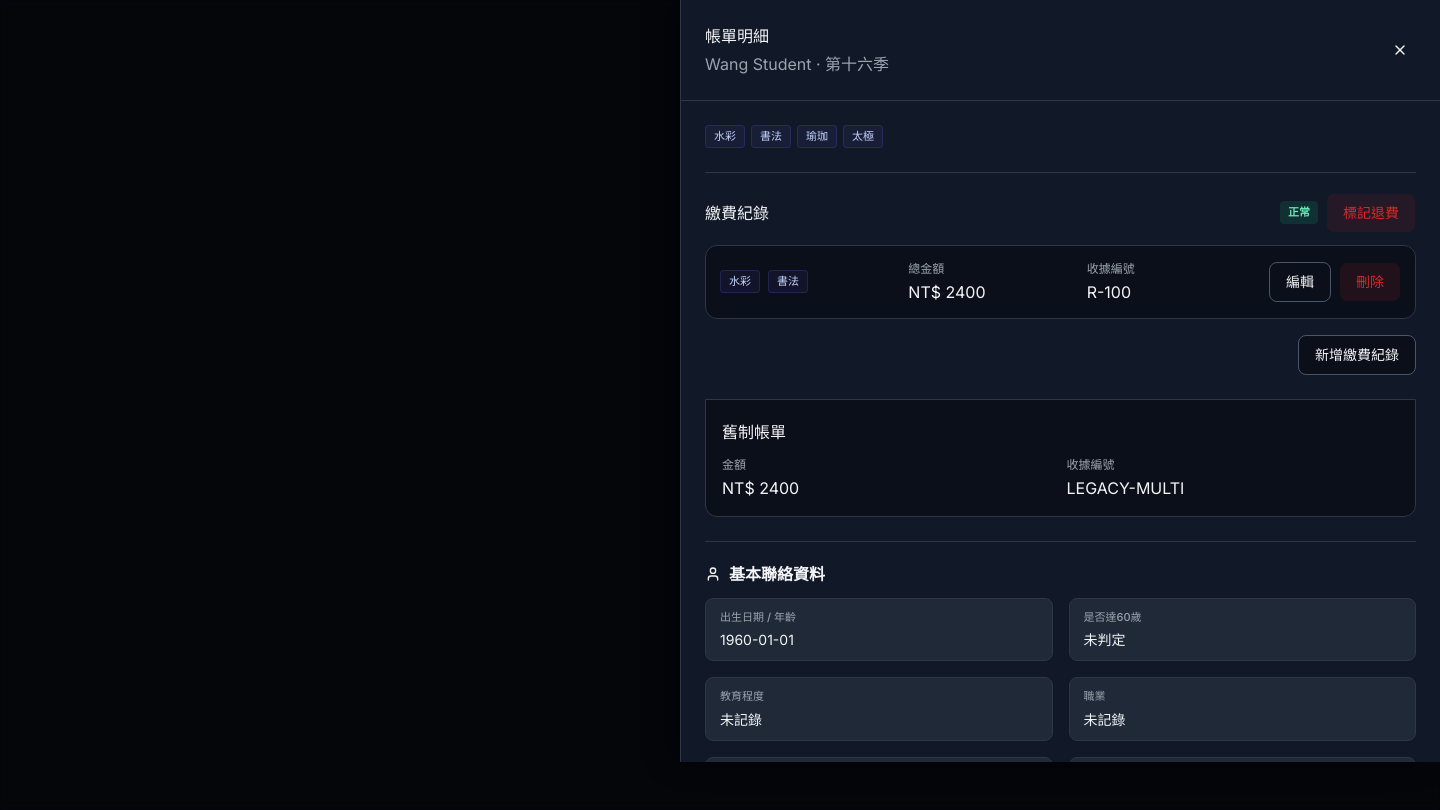
EnrollmentBillingDetailModal › creates one payment for multiple unbilled courses
Click the button "新增繳費紀錄" at point(1357, 354), box [1298,334,1416,374]
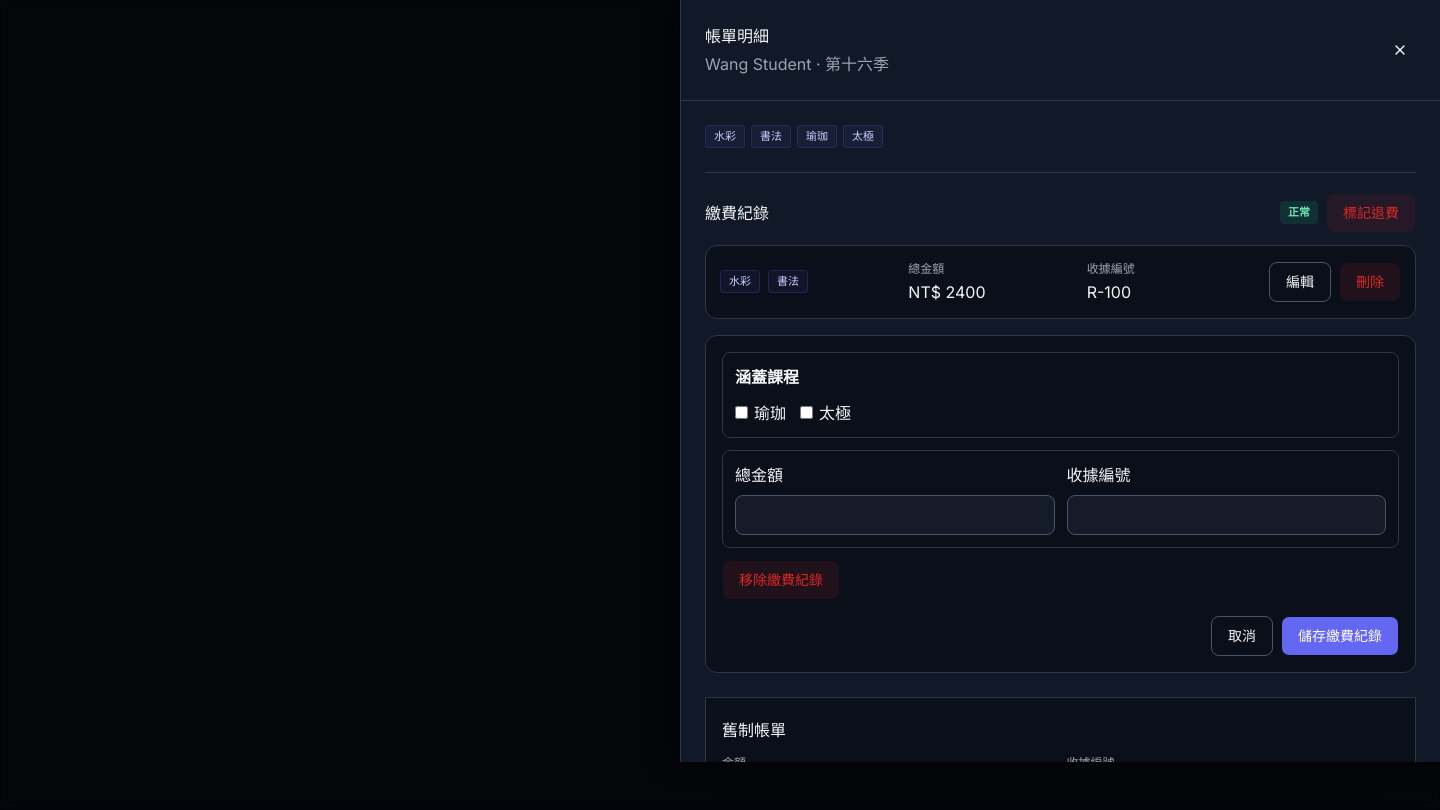
Click the checkbox labelled "瑜珈" at point(742, 412), box [735,406,748,419]
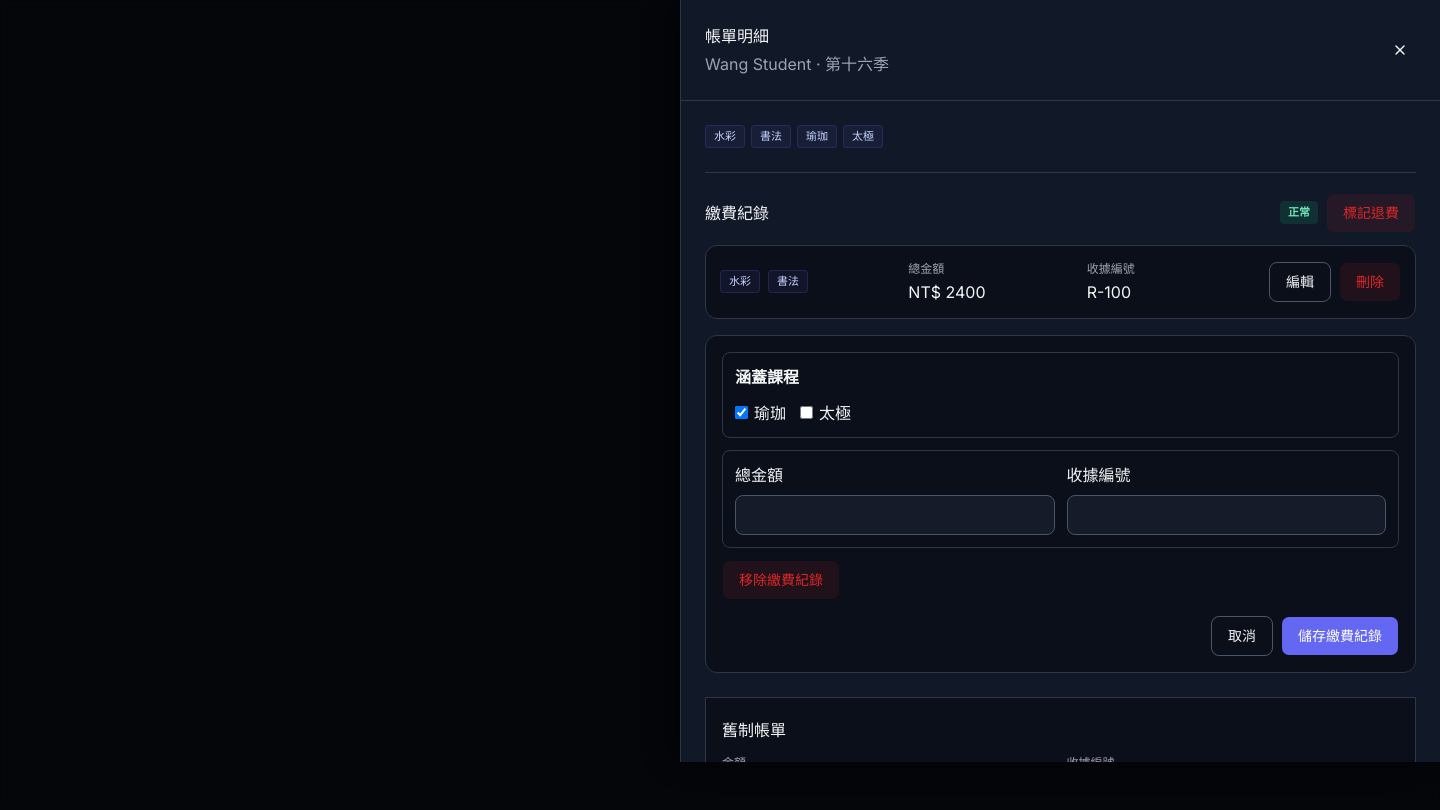
Click the checkbox labelled "太極" at point(806, 412), box [800,406,813,419]
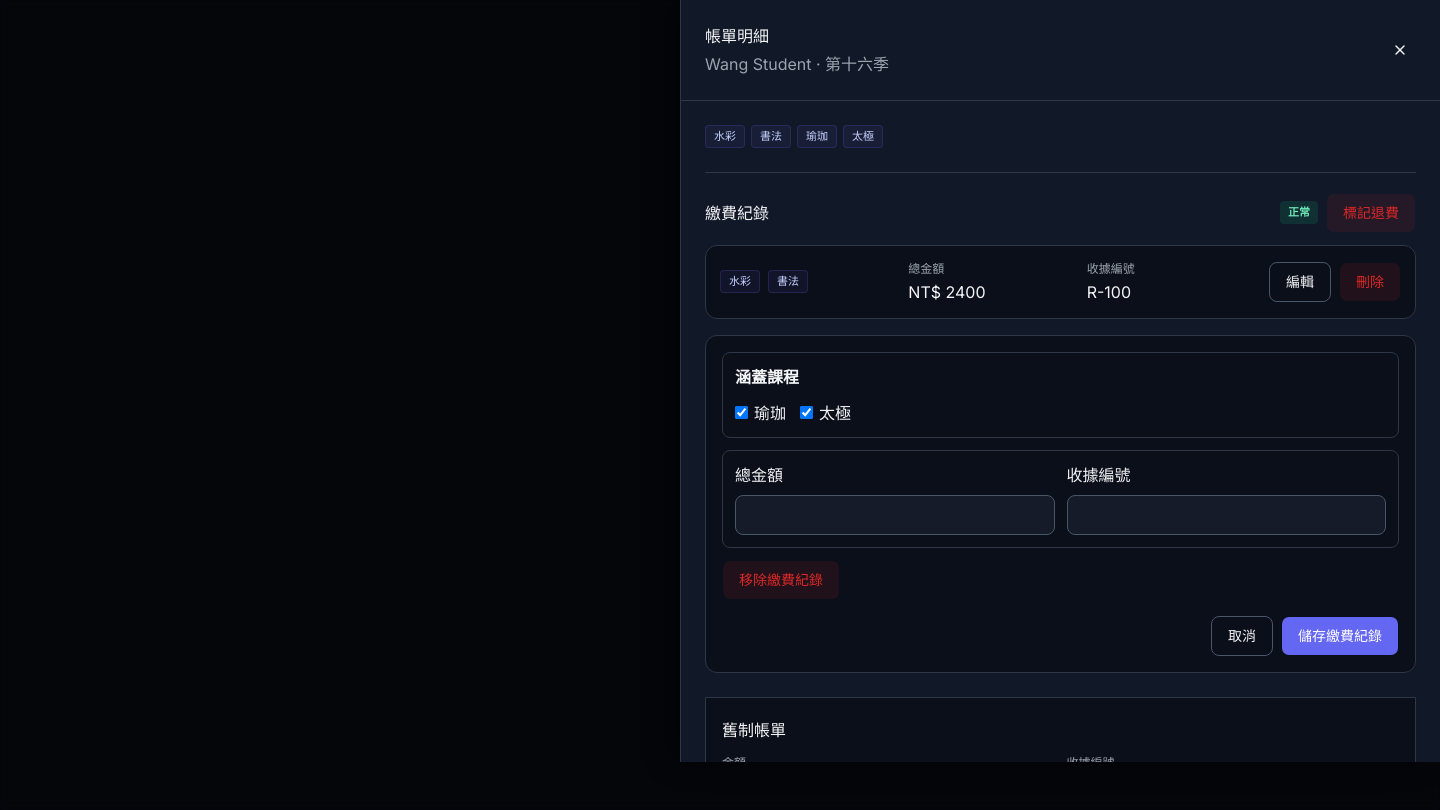
Type "3000" into the number field labelled "總金額" at point(895, 514), box [735,494,1054,534]
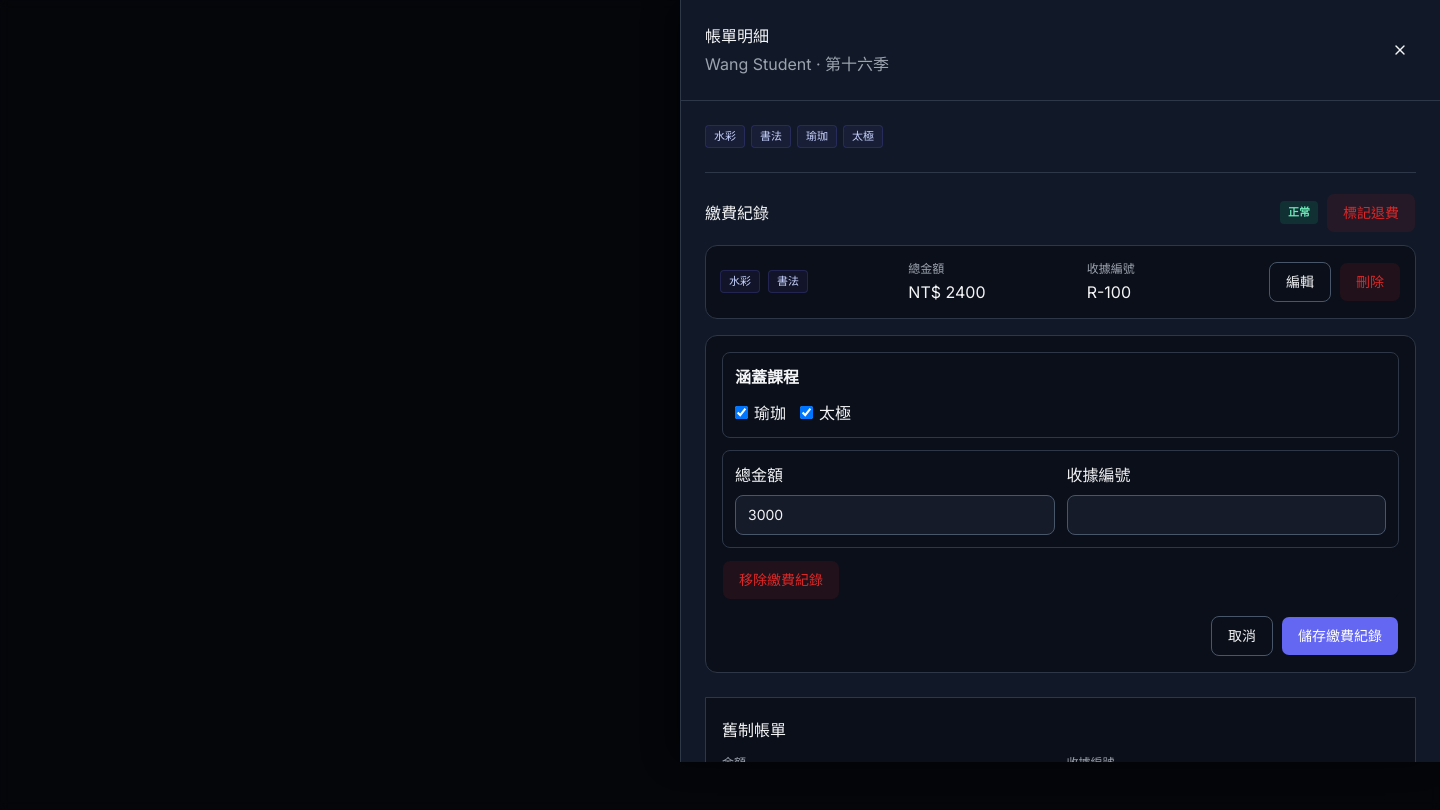
Type "R-101" into the field labelled "收據編號" at point(1226, 514), box [1066,494,1386,534]
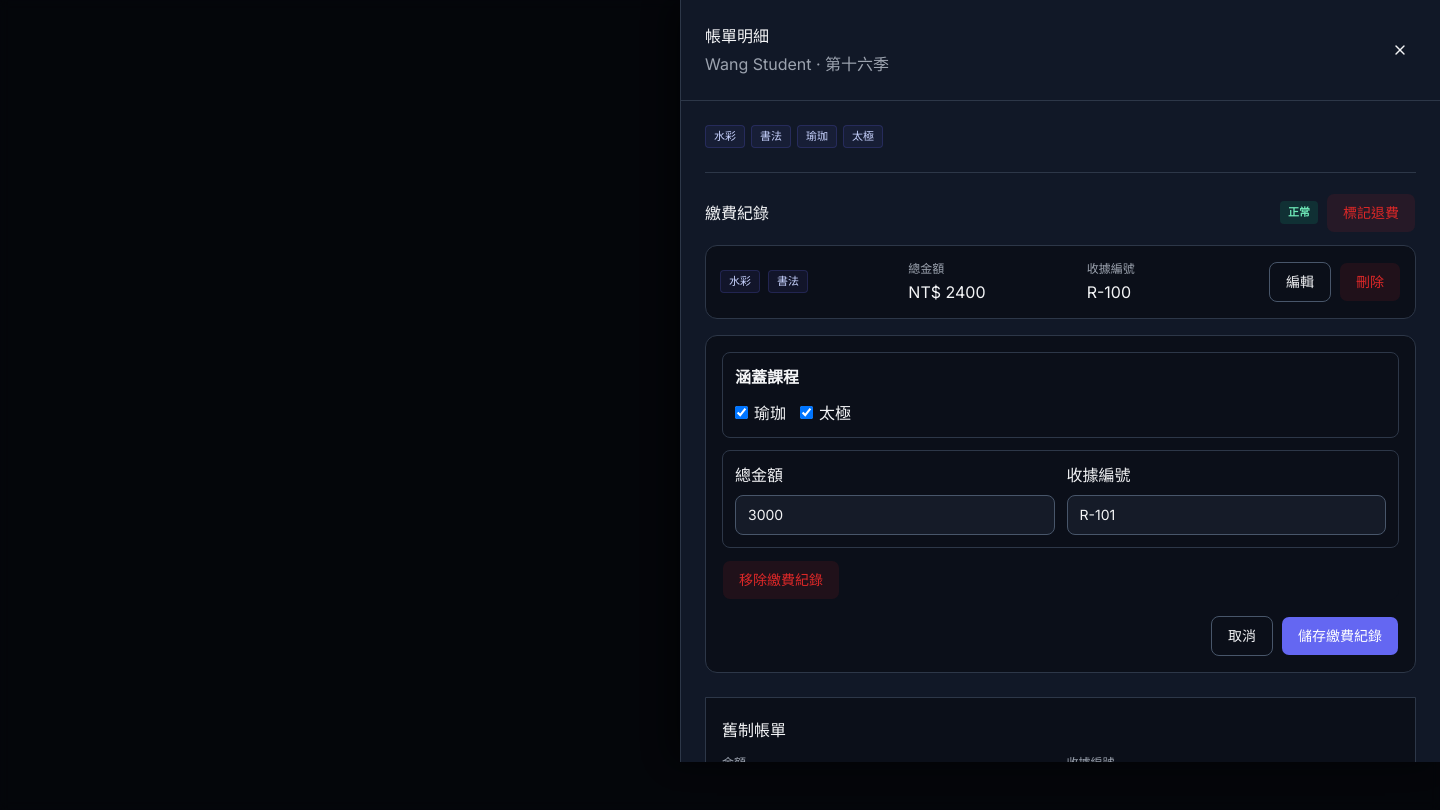
Click the button "儲存繳費紀錄" at point(1340, 636), box [1281,616,1399,656]
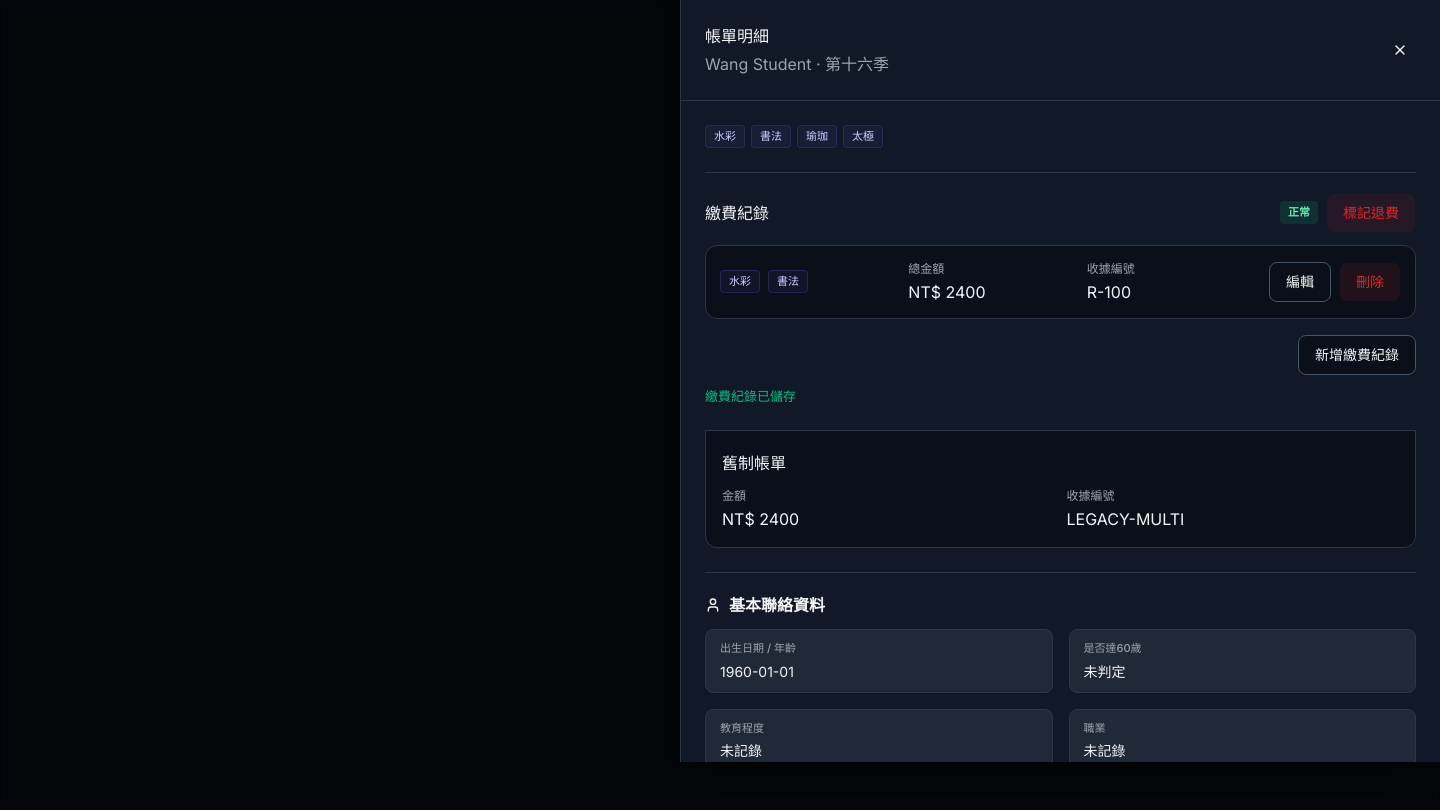
Check: the dialog is shown, box [680,0,1439,762]
Check: the text "繳費紀錄已儲存" is shown, box [705,388,796,404]
